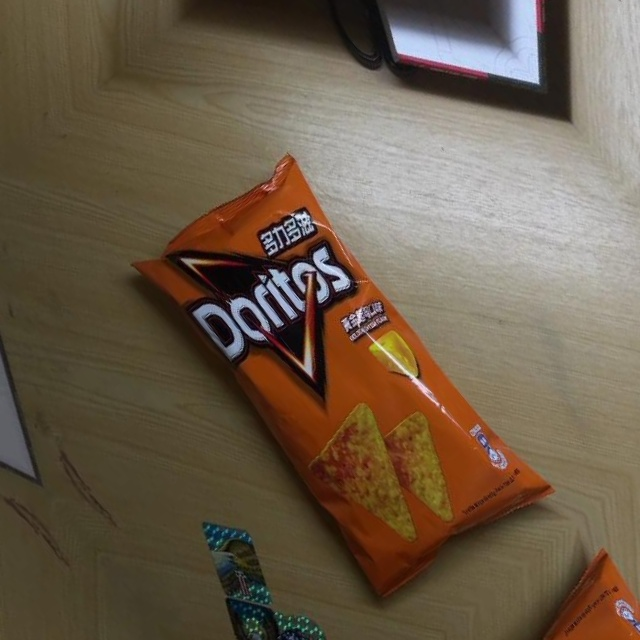Doritos: (108, 137, 569, 627)
